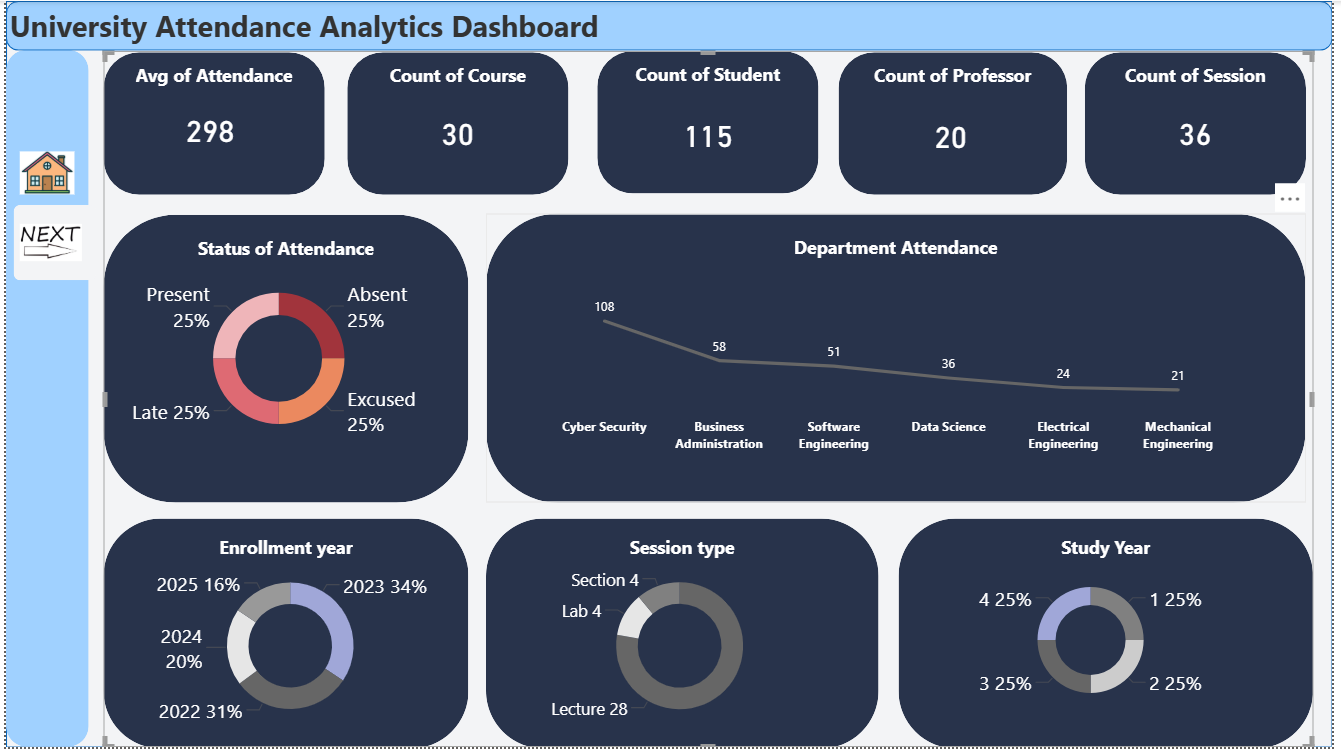

Layout of this report page (visuals, bound fields, positions):
{"tool":"powerbi","page":{"name":"dashboard 2","canvas":[1280,720],"ordinal":1},"visuals":[{"type":"shape","box":[0,0,1280.3,720.6],"z":0},{"type":"shape","title":"Cont","box":[570.3,47.9,213.5,137.5],"z":0,"group":"g3"},{"type":"shape","title":"Cont","box":[94.4,49.2,213.5,137.5],"z":0,"group":"g8"},{"type":"group","id":"g1","title":"Group 1","box":[329.7,49.2,214,138.3],"z":0,"group":"g2"},{"type":"shape","title":"Cont","box":[329.7,49.2,213.5,137.5],"z":0,"group":"g1"},{"type":"shape","title":"Cont","box":[804.3,49.2,220.8,137.5],"z":0,"group":"g7"},{"type":"shape","title":"Cont","box":[1041,49.2,213.5,137.5],"z":0,"group":"g5"},{"type":"shape","title":"Cont","box":[464,204.8,791,279.2],"z":0,"group":"g9"},{"type":"shape","title":"Cont","box":[94.4,206.1,352.3,277.9],"z":0,"group":"g10"},{"type":"shape","title":"Cont","box":[94.4,498.6,352.3,222],"z":0,"group":"g13"},{"type":"shape","title":"Cont","box":[464,498.6,378.9,222],"z":0,"group":"g11"},{"type":"shape","title":"Cont","box":[861.5,498.6,400.2,222],"z":0,"group":"g12"},{"type":"lineChart","fields":{"Category":["dim_department.department_name"],"Y":["Count(fact_attendance.attendance_key)"]},"box":[494.6,262.9,695.3,179.6],"z":5,"group":"g9"},{"type":"donutChart","fields":{"Category":["fact_attendance.attendance_status"],"Y":["Sum(dim_student.student_id)"]},"box":[109,256.9,309.8,176.3],"z":6,"group":"g10"},{"type":"donutChart","fields":{"Y":["CountNonNull(dim_session.day_of_week)"],"Category":["dim_session.session_type"]},"box":[484.4,536.8,333.1,168.8],"z":6,"group":"g11"},{"type":"donutChart","fields":{"Y":["Sum(dim_student.student_key)"],"Category":["dim_student.enrollment_year"]},"box":[114.5,537.2,319.9,168.8],"z":6,"group":"g13"},{"type":"donutChart","fields":{"Y":["Sum(dim_student.student_id)"],"Category":["dim_course.study_year"]},"box":[871.6,545.6,351.8,140.8],"z":6,"group":"g12"},{"type":"group","id":"g2","title":"Group 6","box":[94.4,47.9,1167.3,672.7],"z":1000},{"type":"group","id":"g3","title":"Group 1","box":[570.3,47.9,213.5,137.5],"z":1000,"group":"g6"},{"type":"group","id":"g4","title":"Group 2","box":[804.3,49.2,222,155.5],"z":1000,"group":"g2"},{"type":"card","fields":{"Values":["Count(fact_attendance.attendance_key)"]},"box":[143,73.4,109.5,101],"z":1000,"group":"g8"},{"type":"card","fields":{"Values":["CountNonNull(dim_course.course_id)"]},"box":[378,79.4,117,95.3],"z":1000,"group":"g1"},{"type":"card","fields":{"Values":["CountNonNull(dim_session.session_key)"]},"box":[1089.3,79.4,117,95.3],"z":1000,"group":"g5"},{"type":"shape","box":[0,47.3,79.8,672.7],"z":2000},{"type":"group","id":"g5","title":"Group 1","box":[1041,49.2,214,138.3],"z":2000,"group":"g2"},{"type":"card","fields":{"Values":["CountNonNull(dim_student.student_id)"]},"box":[602.9,90.1,149.6,77.2],"z":2000,"group":"g6"},{"type":"shape","box":[0,0,1280.3,47.9],"z":3000},{"type":"group","id":"g6","title":"Group 3","box":[570.3,47.9,214,138.3],"z":3000,"group":"g2"},{"type":"group","id":"g7","title":"Group 1","box":[804.3,49.2,220.8,137.5],"z":3000,"group":"g4"},{"type":"group","id":"g8","title":"Group 1","box":[94.4,49.2,214,138.3],"z":4000,"group":"g2"},{"type":"card","fields":{"Values":["Count(dim_professor.professor_key)"]},"box":[823.5,55.2,178.4,149.6],"z":4000,"group":"g4"},{"type":"image","box":[13.3,138.3,53.2,54.5],"z":4000},{"type":"shape","box":[6.6,196.8,79.8,73.1],"z":5000},{"type":"group","id":"g9","title":"Group 4","box":[464,204.8,791,279.2],"z":5000,"group":"g2"},{"type":"image","box":[13.3,203.4,59.8,58.5],"z":6000},{"type":"group","id":"g10","title":"Group 5","box":[94.4,206.1,352.3,277.9],"z":6000,"group":"g2"},{"type":"group","id":"g11","title":"Group 5","box":[464,498.6,378.9,222],"z":8000,"group":"g2"},{"type":"group","id":"g12","title":"Group 5","box":[861.5,498.6,400.2,222],"z":8000,"group":"g2"},{"type":"group","id":"g13","title":"Group 5","box":[94.4,498.6,352.3,222],"z":8001,"group":"g2"}]}

Visuals, with their boxes in screenshot pixels (x1, y1, x2, y2), scaled from the page's 1280x720 canvas onto the 1341x752 screenshot:
shape: detection(0, 0, 1340, 751)
"Cont" shape: detection(597, 50, 821, 194)
"Cont" shape: detection(99, 51, 323, 195)
"Group 1" group: detection(345, 51, 570, 196)
"Cont" shape: detection(345, 51, 569, 195)
"Cont" shape: detection(843, 51, 1074, 195)
"Cont" shape: detection(1091, 51, 1314, 195)
"Cont" shape: detection(486, 214, 1315, 506)
"Cont" shape: detection(99, 215, 468, 506)
"Cont" shape: detection(99, 521, 468, 751)
"Cont" shape: detection(486, 521, 883, 751)
"Cont" shape: detection(903, 521, 1322, 751)
lineChart - dim_department.department_name x Count(fact_attendance.attendance_key): detection(518, 275, 1247, 462)
donutChart - fact_attendance.attendance_status x Sum(dim_student.student_id): detection(114, 268, 439, 452)
donutChart - CountNonNull(dim_session.day_of_week) x dim_session.session_type: detection(507, 561, 856, 737)
donutChart - Sum(dim_student.student_key) x dim_student.enrollment_year: detection(120, 561, 455, 737)
donutChart - Sum(dim_student.student_id) x dim_course.study_year: detection(913, 570, 1282, 717)
"Group 6" group: detection(99, 50, 1322, 751)
"Group 1" group: detection(597, 50, 821, 194)
"Group 2" group: detection(843, 51, 1075, 214)
card - Count(fact_attendance.attendance_key): detection(150, 77, 265, 182)
card - CountNonNull(dim_course.course_id): detection(396, 83, 519, 182)
card - CountNonNull(dim_session.session_key): detection(1141, 83, 1264, 182)
shape: detection(0, 49, 84, 751)
"Group 1" group: detection(1091, 51, 1315, 196)
card - CountNonNull(dim_student.student_id): detection(632, 94, 788, 175)
shape: detection(0, 0, 1340, 50)
"Group 3" group: detection(597, 50, 822, 194)
"Group 1" group: detection(843, 51, 1074, 195)
"Group 1" group: detection(99, 51, 323, 196)
card - Count(dim_professor.professor_key): detection(863, 58, 1050, 214)
image: detection(14, 144, 70, 201)
shape: detection(7, 206, 91, 282)
"Group 4" group: detection(486, 214, 1315, 506)
image: detection(14, 212, 77, 274)
"Group 5" group: detection(99, 215, 468, 506)
"Group 5" group: detection(486, 521, 883, 751)
"Group 5" group: detection(903, 521, 1322, 751)
"Group 5" group: detection(99, 521, 468, 751)
